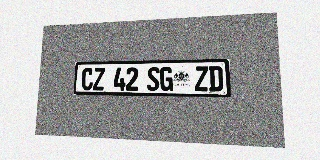2: (126, 67, 138, 91)
4: (113, 67, 126, 91)
C: (81, 68, 93, 90)
D: (209, 66, 223, 91)
G: (160, 67, 173, 91)
S: (147, 67, 160, 91)
Z: (194, 66, 209, 91), (93, 68, 105, 90)
